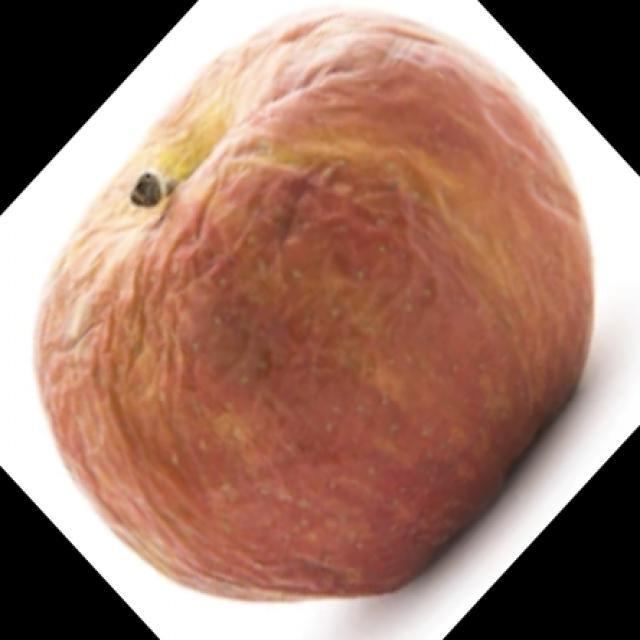Rotten: (53, 5, 580, 607)
